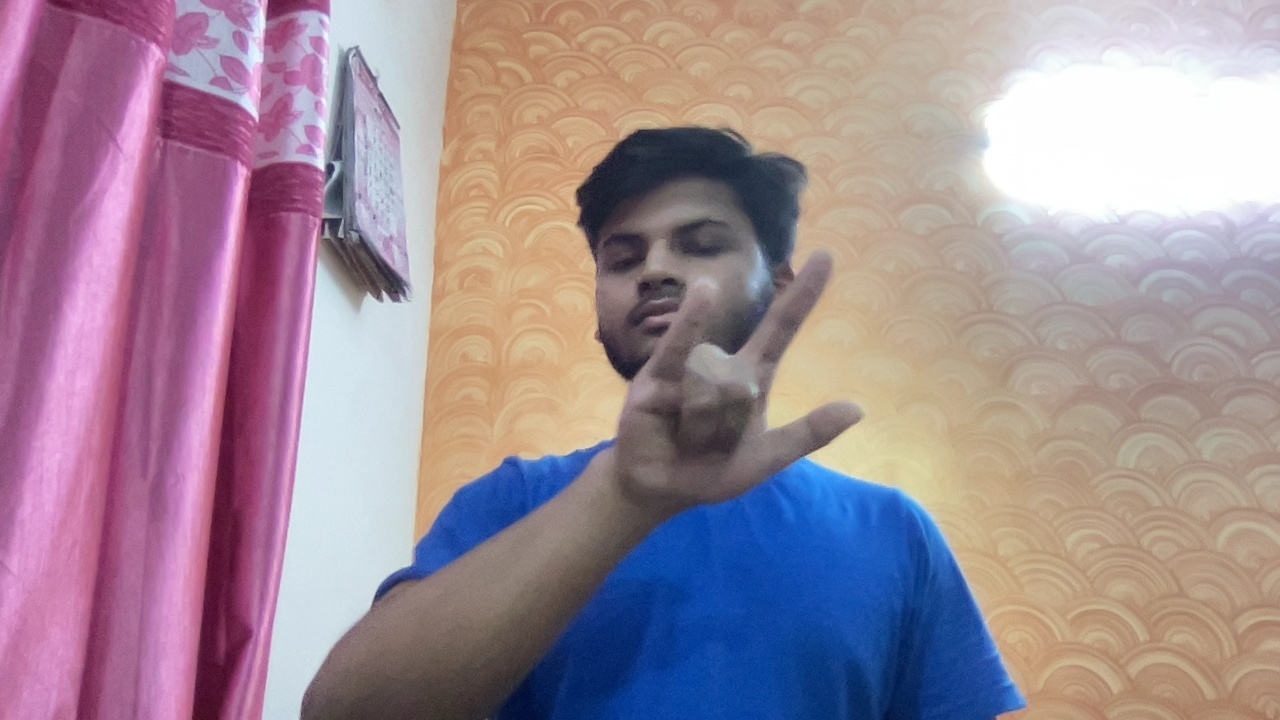iloveyou: (609, 216, 870, 536)
